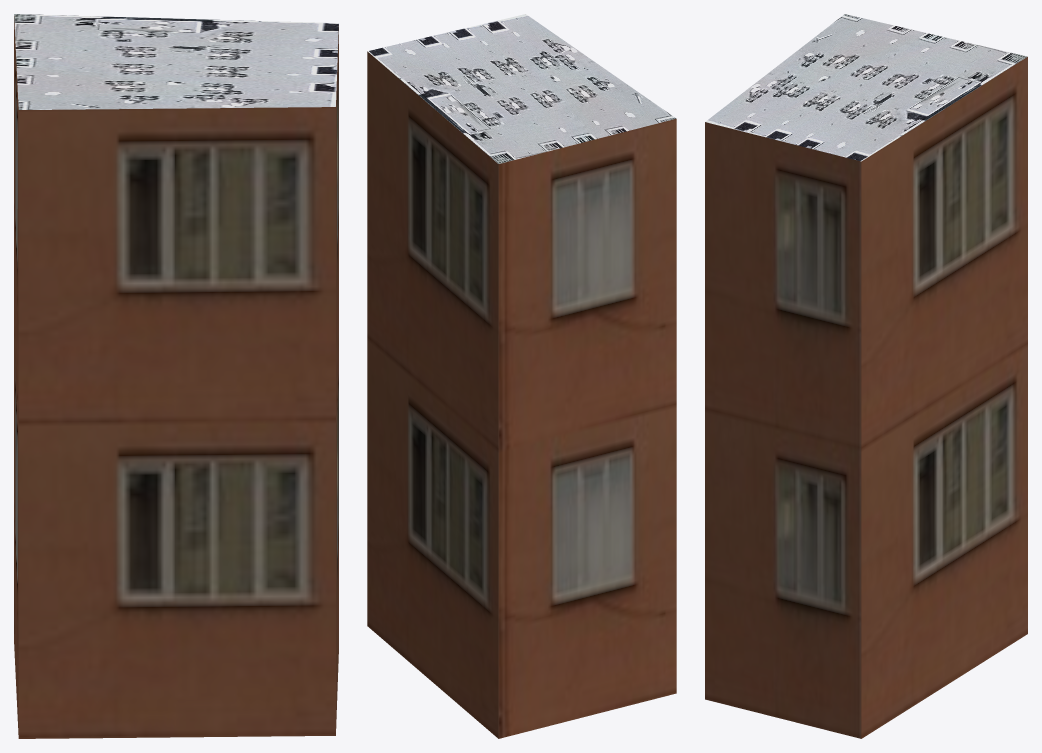
File: ResTex__1150.fbx
3 views of the same model, side by side, from view 1: azimuth 30°, elevation 25°; view 2: azimuth 150°, elevation 25°; view 3: azimuth 270°, elevation 25° (orthographic). The views are drawn at different scales.
Parts seen in each view (by area): view 1: CityEngineMaterial_20_m, CityEngineMaterial_4_m; view 2: CityEngineMaterial_20_m, CityEngineMaterial_4_m; view 3: CityEngineMaterial_20_m, CityEngineMaterial_4_m.
Part boxes in pixels (x1=…): CityEngineMaterial_20_m: x1=14, y1=16, x2=338, y2=738; CityEngineMaterial_4_m: x1=14, y1=14, x2=338, y2=109; CityEngineMaterial_20_m: x1=367, y1=51, x2=676, y2=738; CityEngineMaterial_4_m: x1=368, y1=14, x2=675, y2=163; CityEngineMaterial_20_m: x1=705, y1=57, x2=1027, y2=738; CityEngineMaterial_4_m: x1=705, y1=14, x2=1027, y2=161.
Size of the model in its own units: 3.29 by 6 by 3.04.
Materials: 2 (2 with a texture image).
